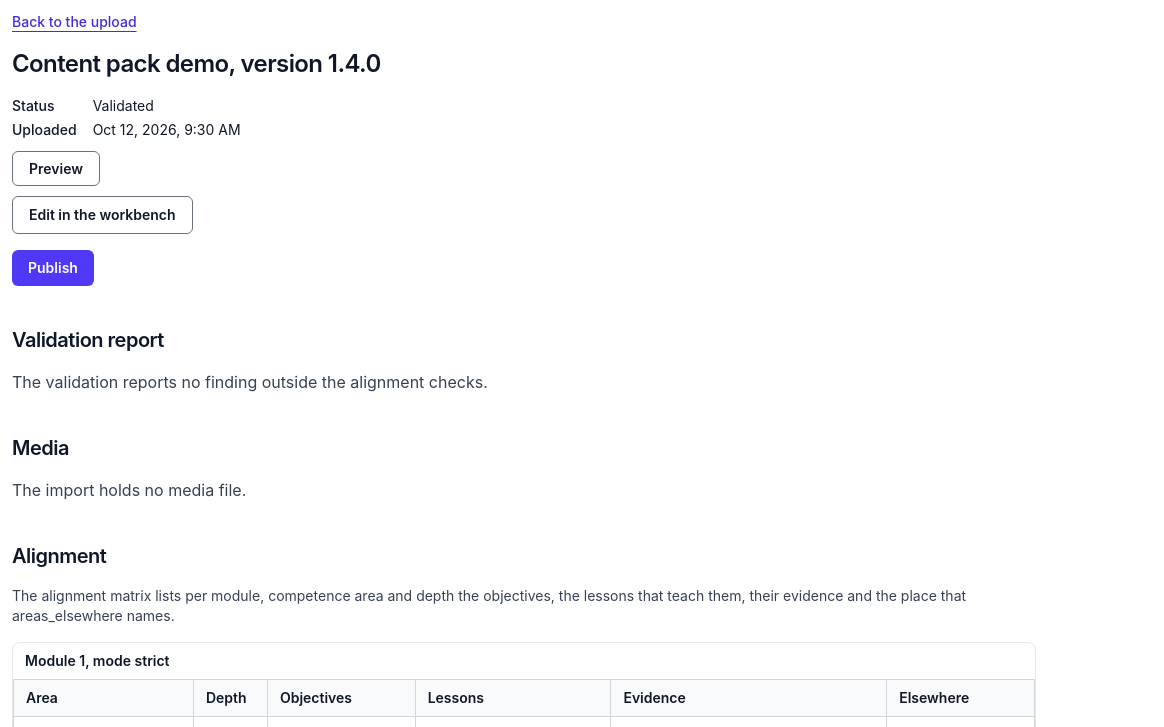
Test: Edit in the workbench › a 409 media_not_ready names the captions files with their state and asks to wait
Click the button "Edit in the workbench" at coordinates (102, 215), box [12, 196, 193, 234]
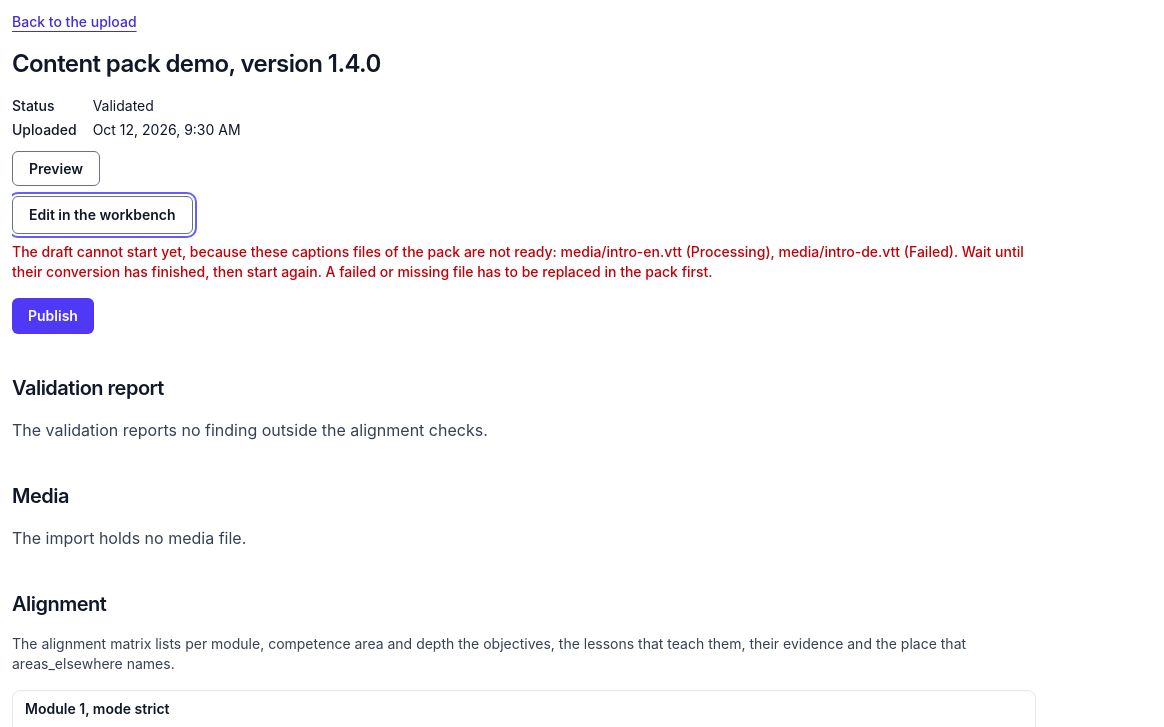
Expected: the text "The draft cannot start yet, because these captions files of the pack are not ready: media/intro-en.vtt (Processing), med" is shown, [12, 243, 1024, 280]
